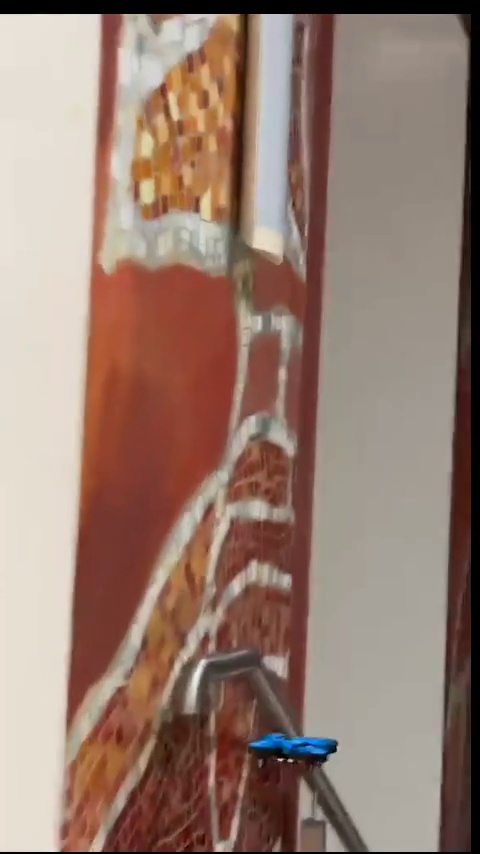drone: (252, 732, 335, 762)
